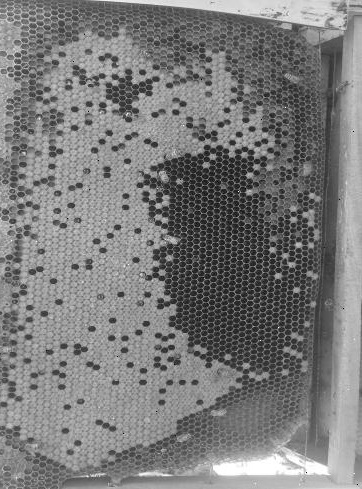cria: (0, 28, 277, 471)
